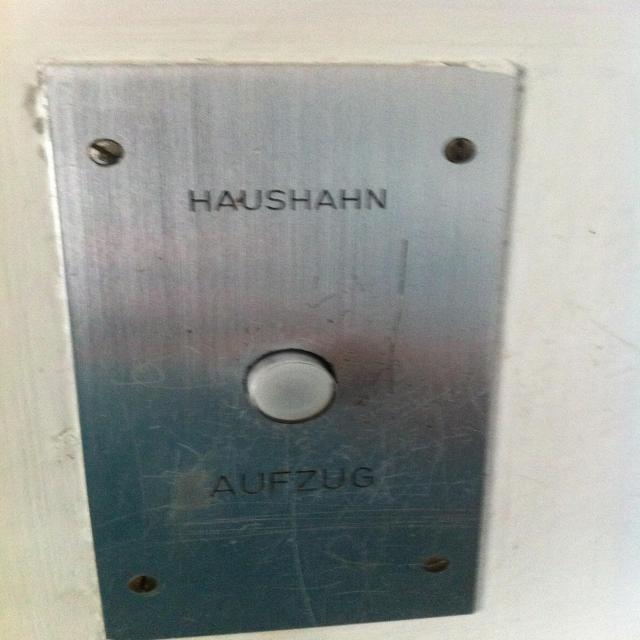empty: (242, 346, 339, 426)
